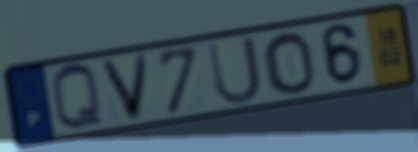6: (319, 23, 366, 88)
7: (156, 42, 201, 118)
O: (260, 30, 318, 96)
Q: (48, 62, 107, 134)
U: (204, 34, 265, 108)
V: (96, 51, 152, 125)
